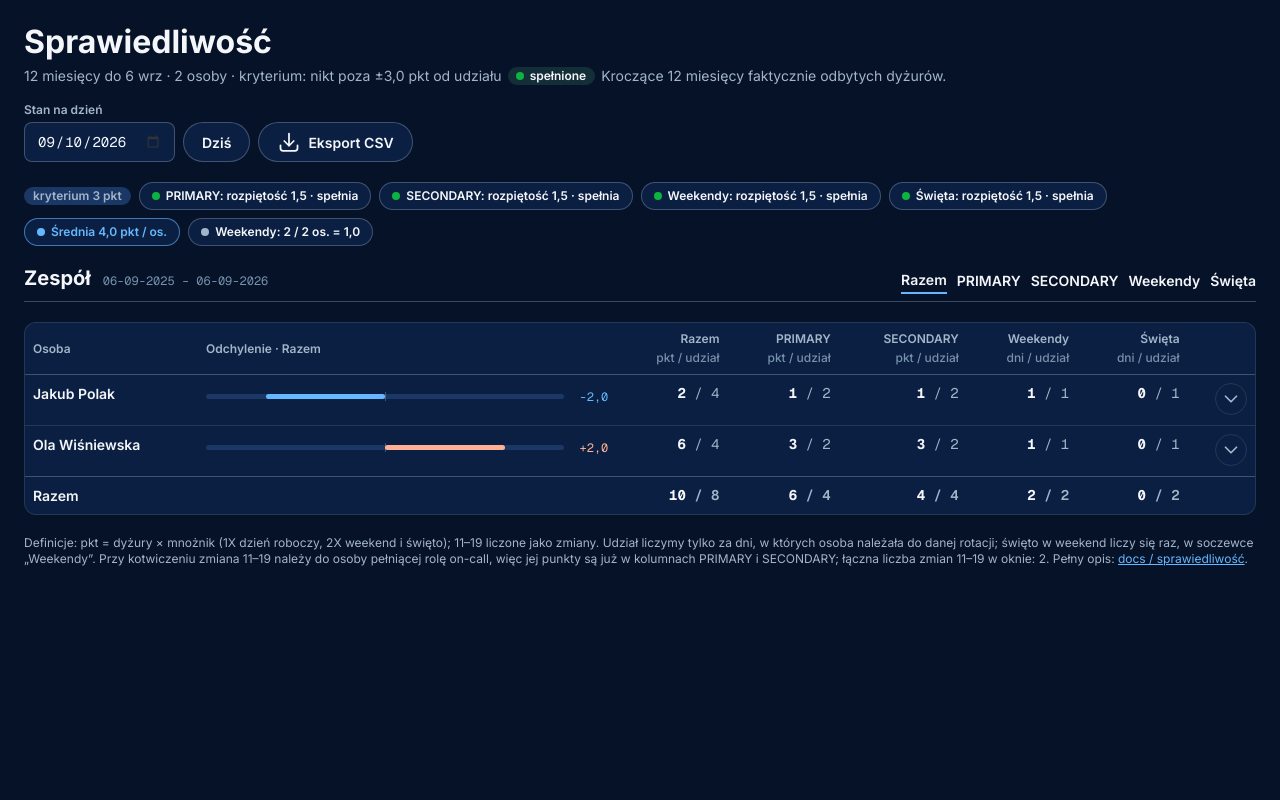
Test case: FairnessPanel drilldown plans › promises more duties to someone below the share and fewer to someone above it
Expected: the column heading "Jakub Polak" is shown, [25,375,198,426]
Click the button named "Rozwiń: Jakub Polak" at [1231, 399], box [1215,383,1247,415]
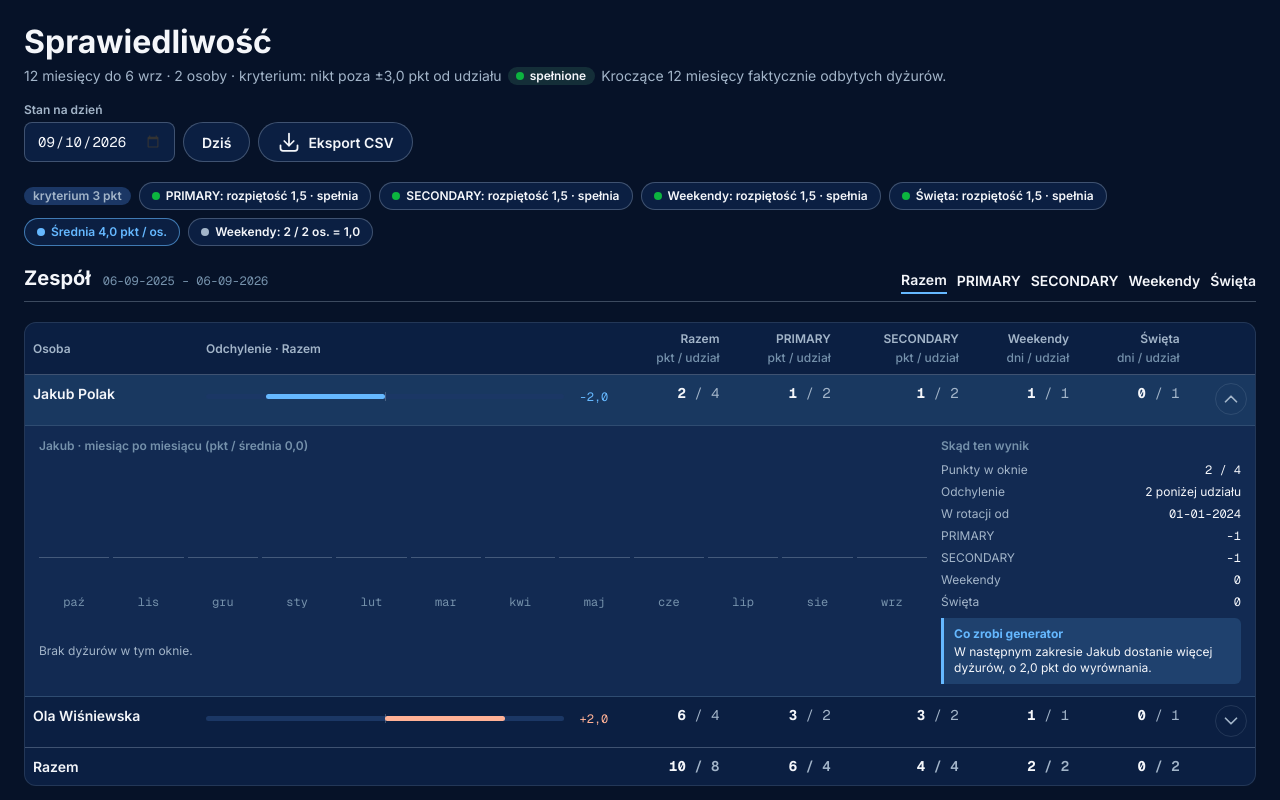
Expected: the text "W następnym zakresie Jakub dostanie więcej dyżurów, o 2,0 pkt do wyrównania." is shown, [954,644,1212,675]
Expected: the text "Brak dyżurów w tym oknie." is shown, [39,643,193,658]
Click the button named "Rozwiń: Ola Wiśniewska" at [1231, 721], box [1215,705,1247,737]
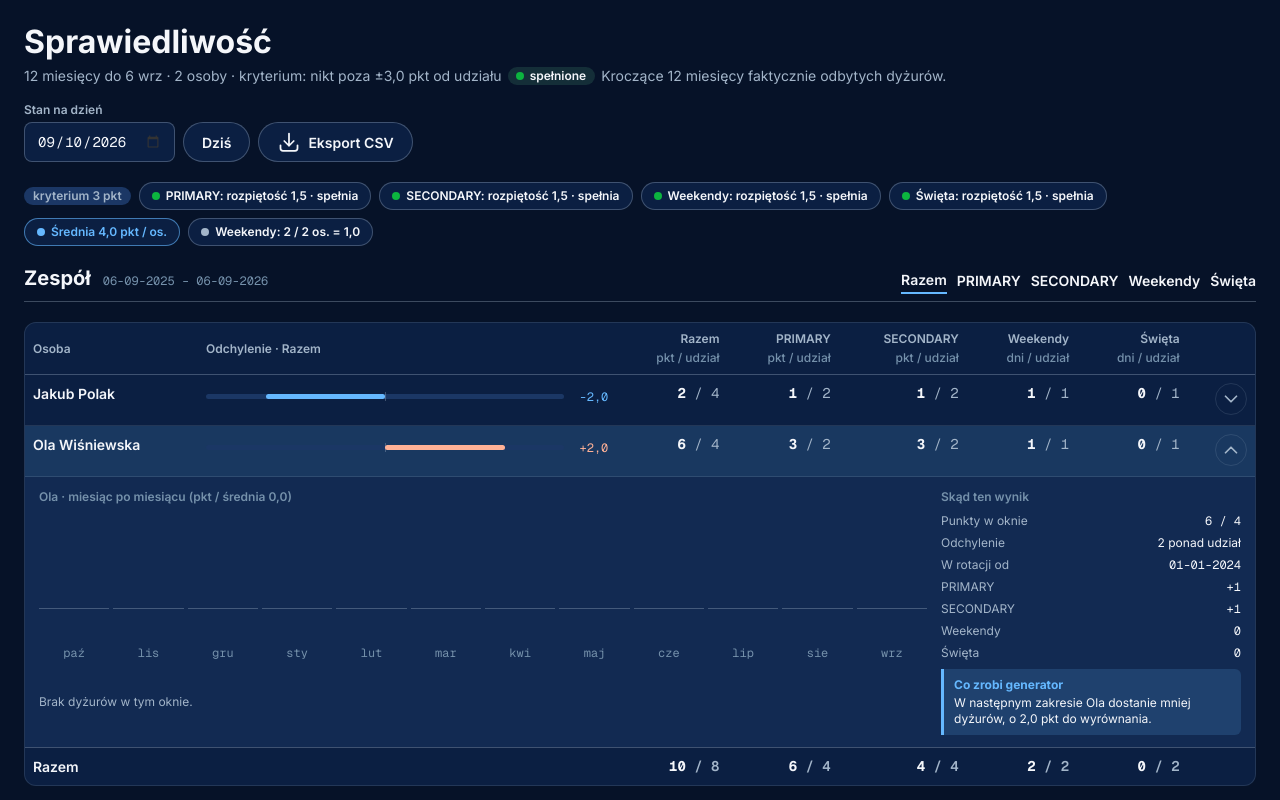
Expected: the text "W następnym zakresie Ola dostanie mniej dyżurów, o 2,0 pkt do wyrównania." is shown, [954,695,1191,726]
Expected: the text "Jakub dostanie więcej" is gone
